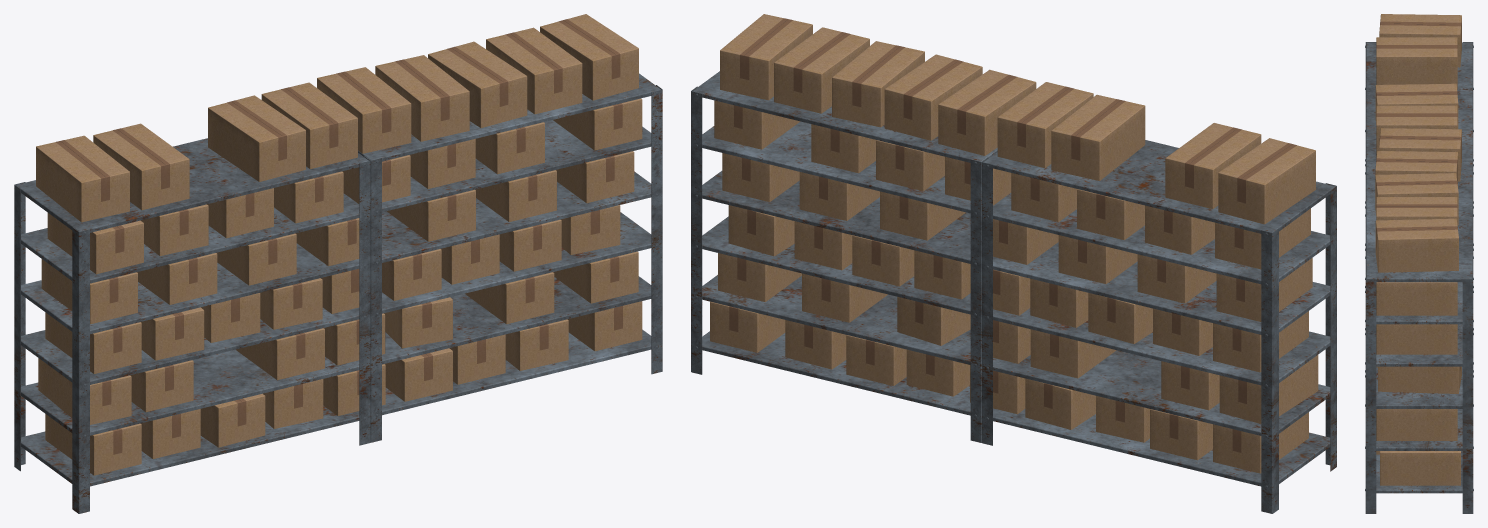
Rendered from double_metal_shelving_unit.glb.
The picture shows the model from 3 angles, left to right: view 1: azimuth 30°, elevation 25°; view 2: azimuth 150°, elevation 25°; view 3: azimuth 270°, elevation 25°; orthographic projection. The views are drawn at different scales.
Parts seen in each view (by area): view 1: Material2 (×5); view 2: Material2 (×5); view 3: Material2 (×6).
Boxes of the visible parts, box(x1,y1,x2,y2) form: Material2 (×5): box(14, 14, 662, 513); Material2 (×5): box(691, 14, 1336, 513); Material2 (×6): box(1365, 14, 1473, 513).
Size of the model in its own units: 156 by 82.16 by 30.29.
5 materials, 2 textured.
